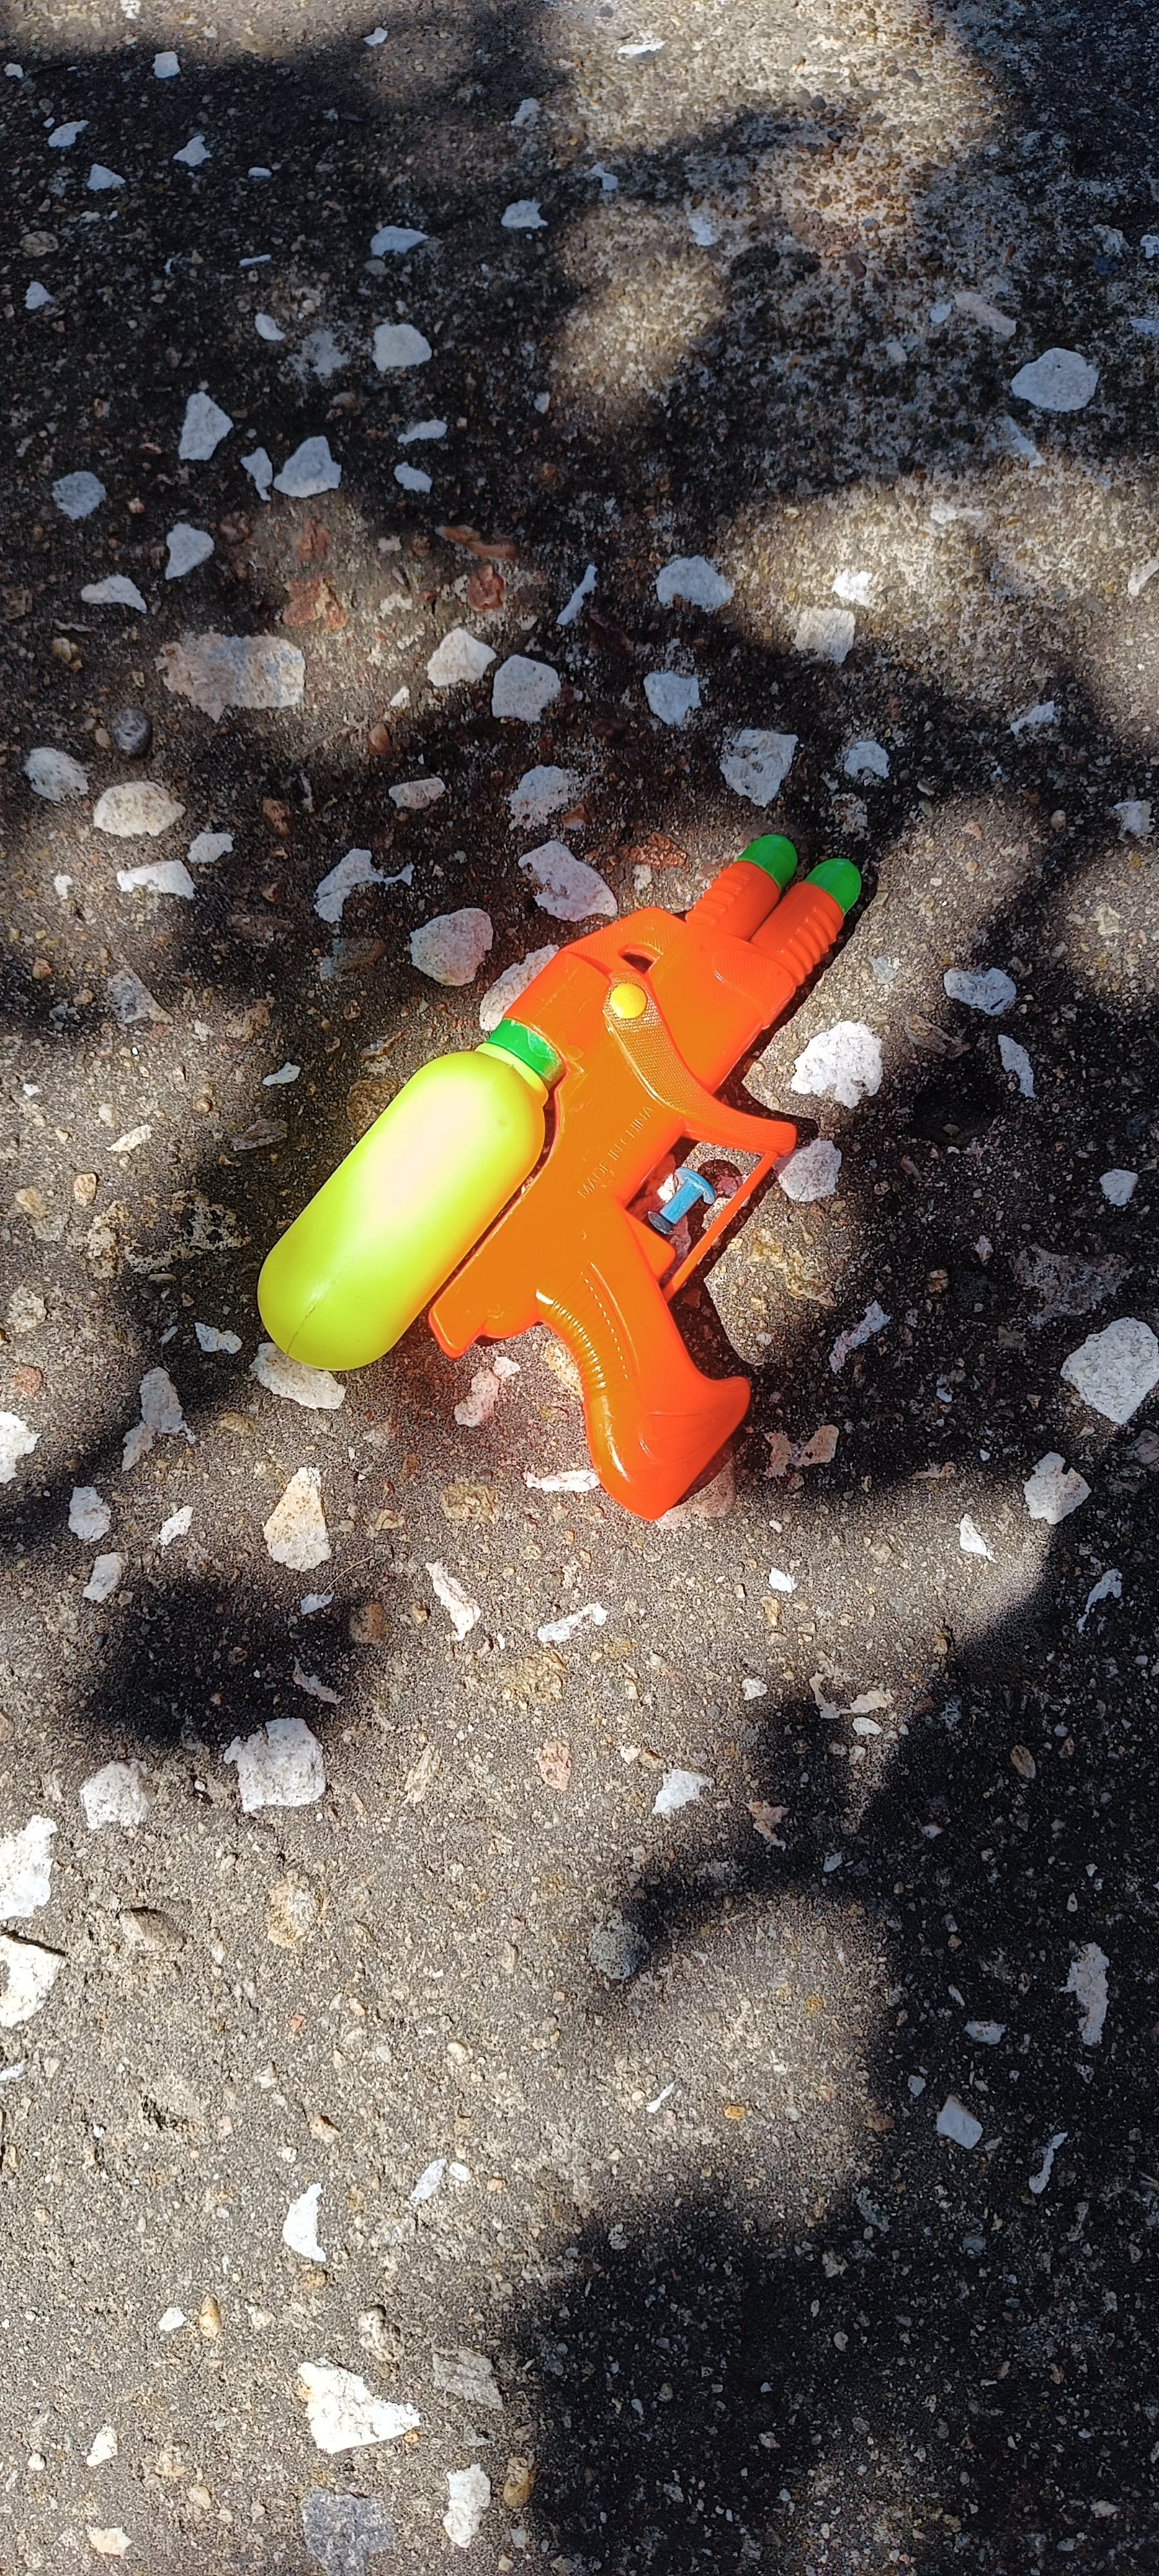Water Gun: (256, 833, 862, 1520)
